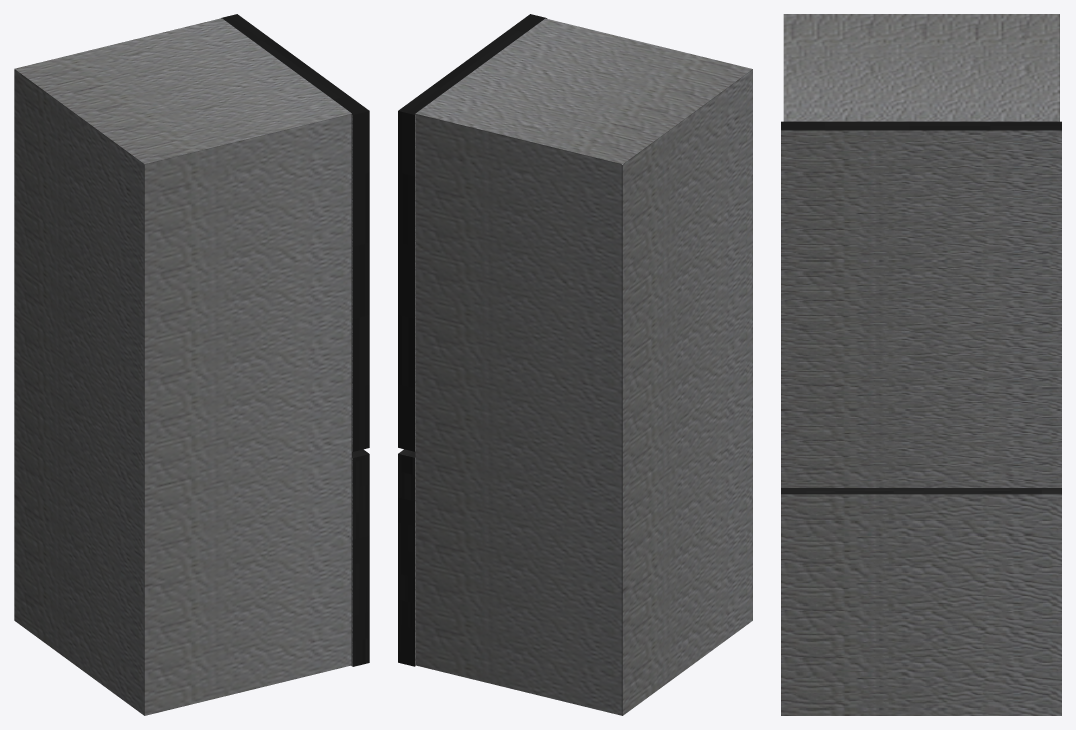
The model's file is Fridge.fbx.
The picture shows the model from 3 angles, left to right: view 1: azimuth 30°, elevation 25°; view 2: azimuth 150°, elevation 25°; view 3: azimuth 270°, elevation 25°; orthographic projection. The views are drawn at different scales.
Visible parts, largest first — view 1: FridgeBase, FridgeDoorTop, FridgeDoorBottom; view 2: FridgeBase, FridgeDoorTop, FridgeDoorBottom; view 3: FridgeDoorTop, FridgeDoorBottom, FridgeBase.
Part boxes in pixels (x1=…): FridgeBase: x1=14, y1=18, x2=351, y2=715; FridgeDoorTop: x1=221, y1=14, x2=369, y2=451; FridgeDoorBottom: x1=351, y1=449, x2=369, y2=666; FridgeBase: x1=415, y1=18, x2=752, y2=715; FridgeDoorTop: x1=398, y1=14, x2=547, y2=451; FridgeDoorBottom: x1=398, y1=449, x2=415, y2=666; FridgeDoorTop: x1=781, y1=121, x2=1061, y2=487; FridgeDoorBottom: x1=781, y1=488, x2=1061, y2=715; FridgeBase: x1=783, y1=14, x2=1059, y2=121.
Size of the model in its own units: 170 by 402 by 175.
3 materials, 3 textured.
